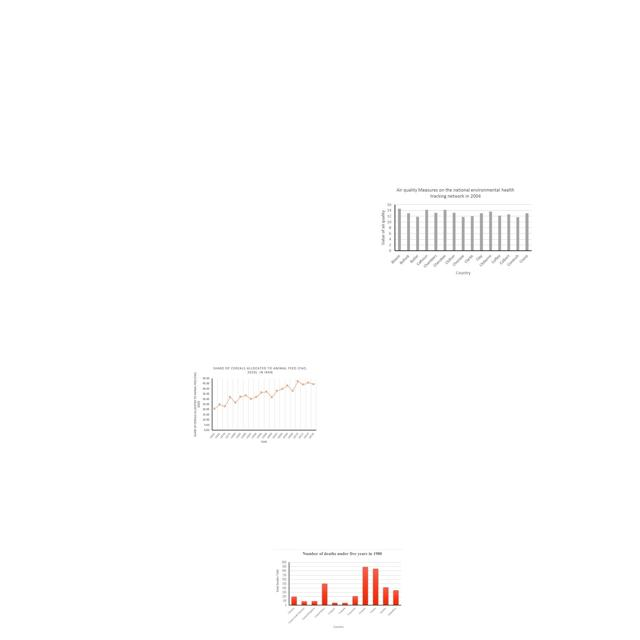Graph: (377, 184, 534, 276), (273, 549, 404, 633), (192, 364, 319, 444)
